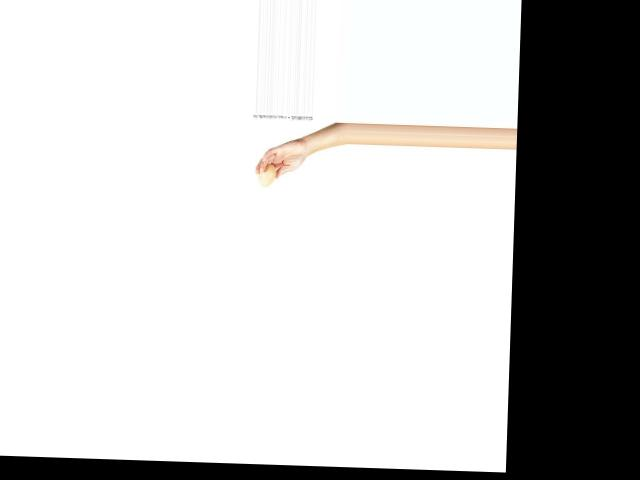egg: (258, 162, 277, 187)
